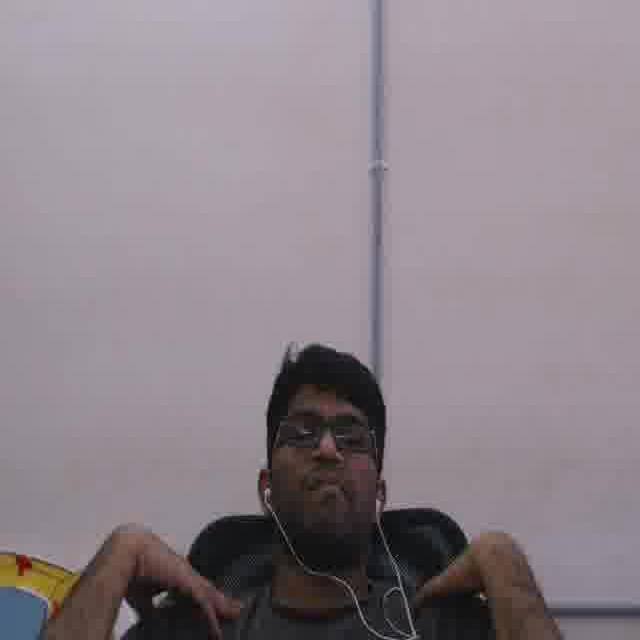Boredom: (272, 379, 373, 536)
